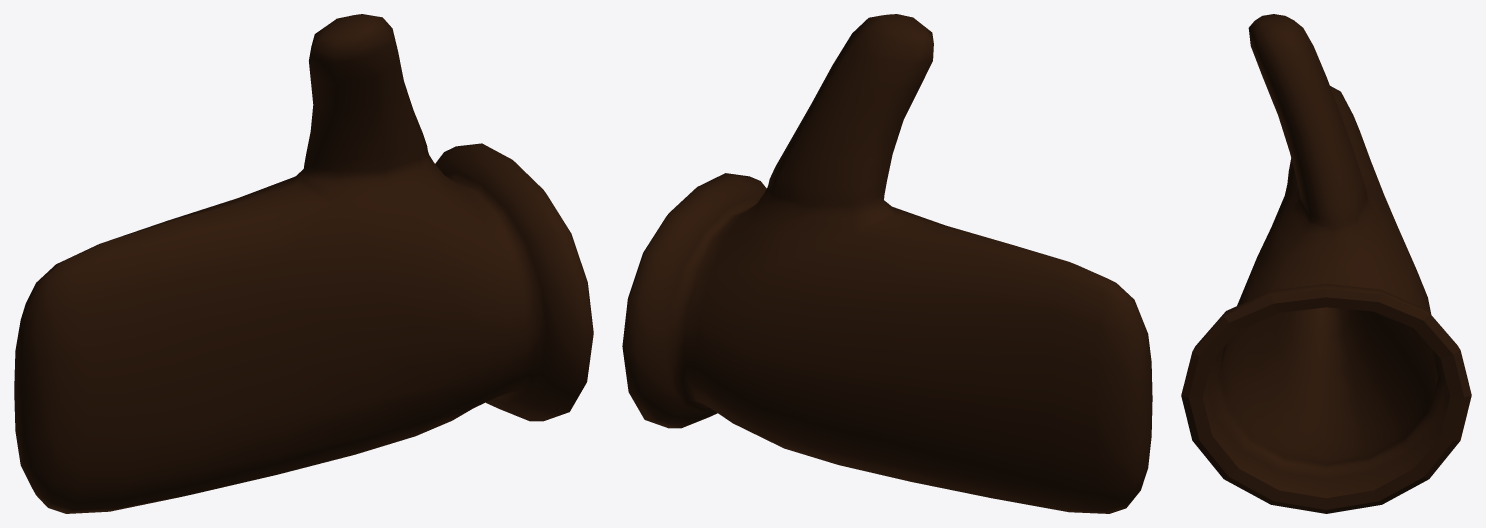
The model's file is glove-1.glb.
3 renders of one model, left to right at view 1: azimuth 30°, elevation 25°; view 2: azimuth 150°, elevation 25°; view 3: azimuth 270°, elevation 25°, orthographic. The views are drawn at different scales.
Parts seen in each view (by area): view 1: glove; view 2: glove; view 3: glove.
Part boxes in pixels (bbox=[...]): glove: bbox=[14, 14, 593, 513]; glove: bbox=[622, 14, 1152, 513]; glove: bbox=[1181, 14, 1471, 513].
Bounding box in the file's own units: 0.4337 × 0.3878 × 0.244.
